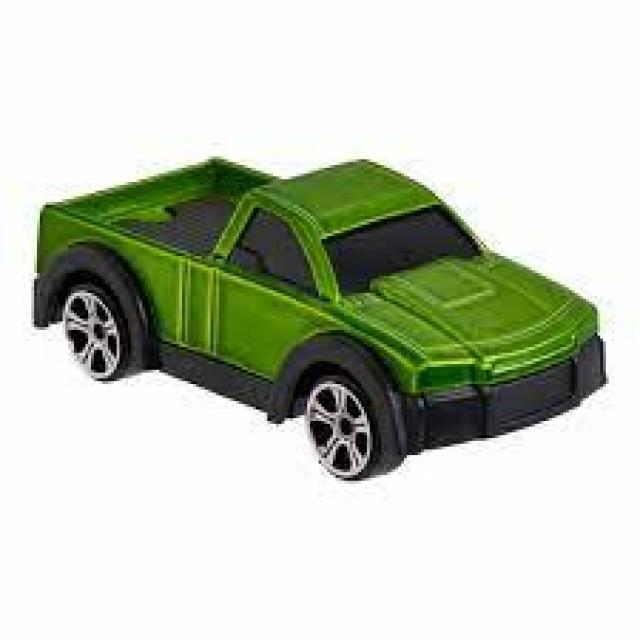Car: (28, 153, 606, 480)
